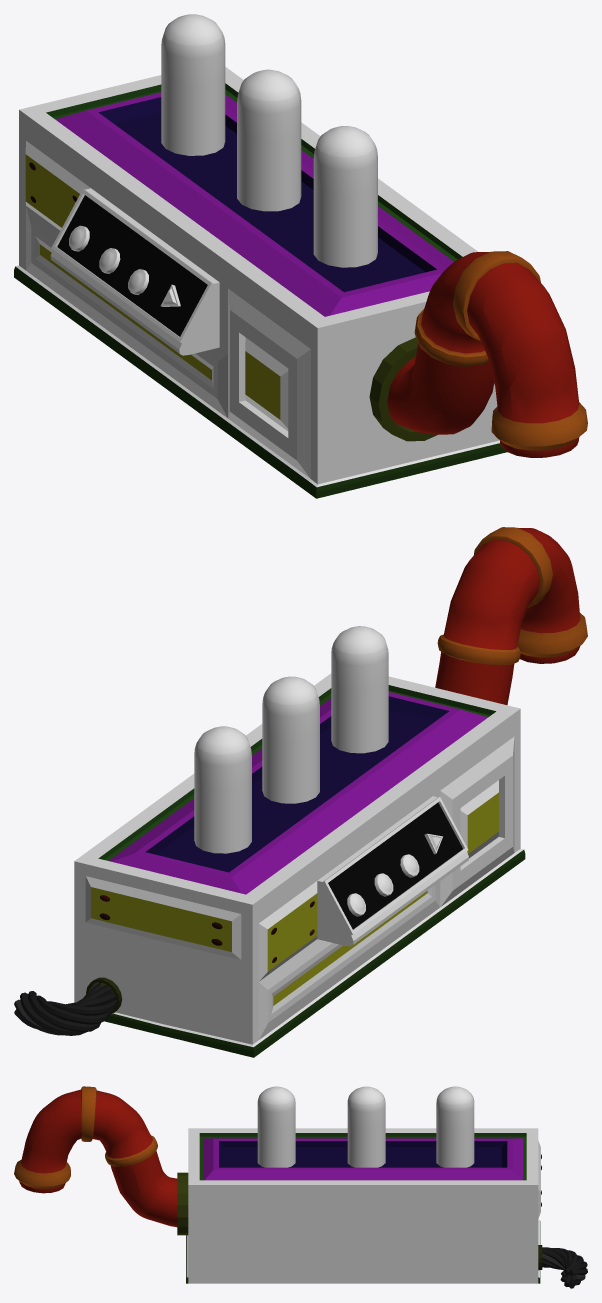
Rendered from Mezcladora.fbx.
The picture shows the model from 3 angles, top to bottom: view 1: azimuth 30°, elevation 25°; view 2: azimuth 150°, elevation 25°; view 3: azimuth 270°, elevation 25°; orthographic projection. The views are drawn at different scales.
Parts seen in each view (by area): view 1: Maquina, CilindroMezcla1, CilindroMezcla2, CilindroMezcla3; view 2: Maquina, CilindroMezcla3, CilindroMezcla1, CilindroMezcla2; view 3: Maquina, CilindroMezcla3, CilindroMezcla1, CilindroMezcla2.
Part boxes in pixels (x1,y1,x2,y2): Maquina: (14,67,587,498); CilindroMezcla1: (313,126,377,267); CilindroMezcla2: (237,69,301,211); CilindroMezcla3: (161,14,225,155); Maquina: (14,527,587,1057); CilindroMezcla3: (194,726,251,853); CilindroMezcla1: (331,626,388,753); CilindroMezcla2: (262,676,319,803); Maquina: (14,1086,587,1288); CilindroMezcla3: (436,1086,474,1167); CilindroMezcla1: (257,1086,295,1167); CilindroMezcla2: (347,1086,385,1167).
Bounding box in the file's own units: 1.88 × 1.88 × 5.83.
